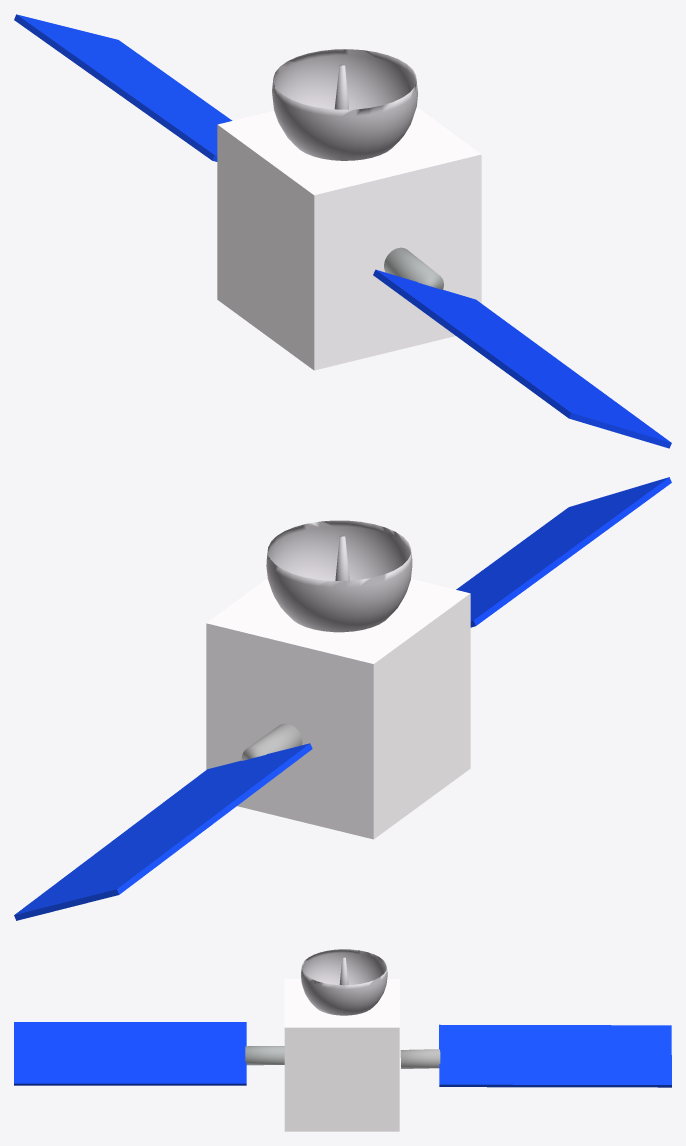
The model's file is satellite.glb.
The picture shows the model from 3 angles, top to bottom: view 1: azimuth 30°, elevation 25°; view 2: azimuth 150°, elevation 25°; view 3: azimuth 270°, elevation 25°; orthographic projection. The views are drawn at different scales.
Parts seen in each view (by area): view 1: Cube, Sphere, Cube.001, Cube.002, Cylinder; view 2: Cube, Sphere, Cube.002, Cube.001, Cylinder.001; view 3: Cube, Cube.001, Cube.002, Sphere, Cylinder.001, Cylinder.
Boxes of the visible parts, <box> form: Cube: <box>217,107,481,370</box>; Sphere: <box>272,49,417,160</box>; Cube.001: <box>373,269,671,448</box>; Cube.002: <box>14,14,232,161</box>; Cylinder: <box>384,247,443,289</box>; Cube: <box>206,578,470,839</box>; Sphere: <box>266,520,412,632</box>; Cube.002: <box>14,743,312,920</box>; Cube.001: <box>456,477,671,627</box>; Cylinder.001: <box>241,723,302,760</box>; Cube: <box>284,979,399,1131</box>; Cube.001: <box>14,1022,246,1085</box>; Cube.002: <box>439,1024,671,1087</box>; Sphere: <box>301,949,387,1015</box>; Cylinder.001: <box>400,1049,440,1068</box>; Cylinder: <box>245,1046,284,1065</box>.
Bounding box in the file's own units: 2 × 2.84 × 11.46.
